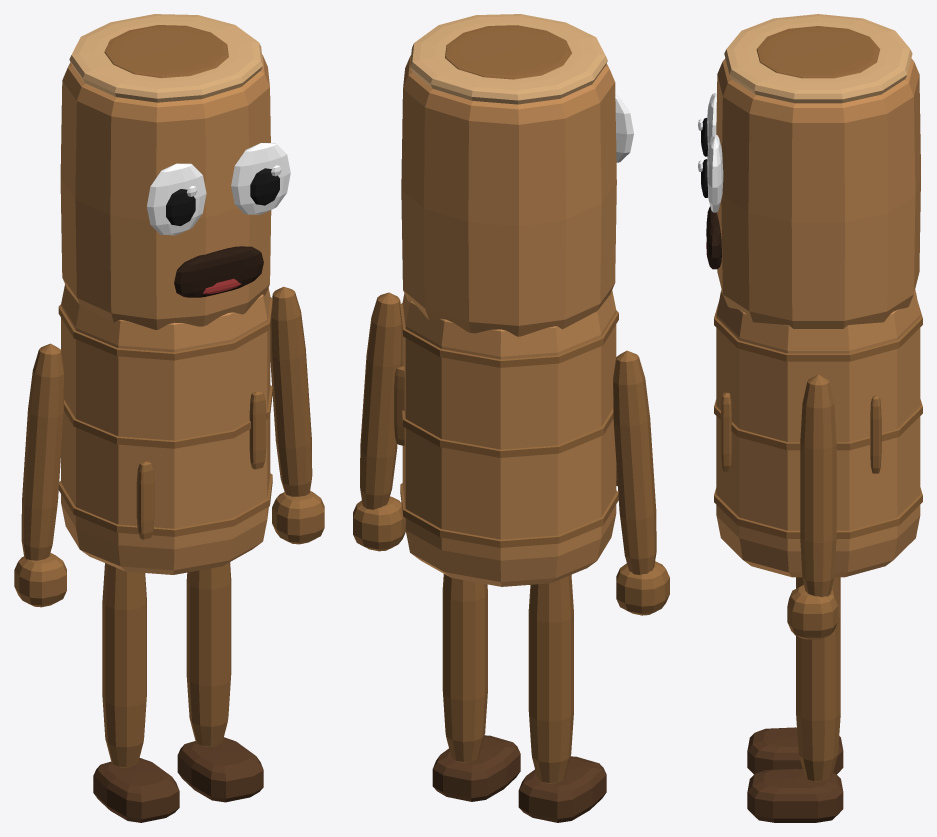
File: br-tungtung.glb
3 views of the same model, side by side, from view 1: azimuth 30°, elevation 25°; view 2: azimuth 150°, elevation 25°; view 3: azimuth 270°, elevation 25° (orthographic). The views are drawn at different scales.
Visible parts, largest first — view 1: head, torso, leg-right, leg-left, arm-right, arm-left; view 2: head, torso, leg-right, leg-left, arm-right, arm-left; view 3: head, torso, leg-left, arm-left, leg-right.
Boxes of the visible parts, box(x1,y1,x2,y2) form: head: box(60, 14, 290, 329); torso: box(58, 284, 272, 574); leg-right: box(93, 563, 179, 822); leg-left: box(177, 562, 263, 802); arm-right: box(14, 343, 66, 607); arm-left: box(270, 286, 324, 544); head: box(401, 14, 633, 336); torso: box(394, 290, 618, 586); leg-right: box(518, 574, 606, 822); leg-left: box(432, 574, 520, 801); arm-right: box(613, 350, 669, 615); arm-left: box(353, 292, 405, 551); head: box(698, 14, 920, 328); torso: box(714, 289, 922, 577); leg-left: box(747, 577, 843, 822); arm-left: box(787, 374, 837, 639); leg-right: box(747, 577, 843, 774).
Bounding box in the file's own units: 1.21 × 2.85 × 0.7823.
